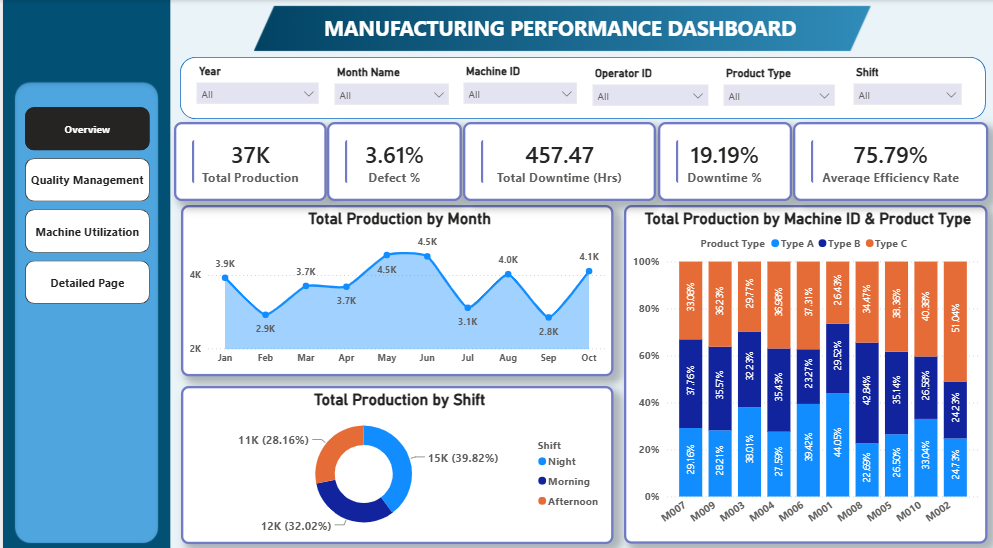

What the dashboard file says about the page in this screenshot:
{"tool":"powerbi","page":{"name":"Overview","canvas":[1280,720],"ordinal":0},"visuals":[{"type":"lineChart","title":"Total Production by Month","fields":{"Y":["Measure Table.Total Production"],"Category":["Calender table.Month Name"]},"box":[229.6,265,558.4,221.1],"z":0},{"type":"donutChart","title":"Total Production by Shift","fields":{"Category":["Shift.Shift"],"Y":["Measure Table.Total Production"]},"box":[229.6,497.5,558.4,204.1],"z":1000},{"type":"hundredPercentStackedColumnChart","title":"Total Production by Machine ID & Product Type","fields":{"Category":["Machine.Machine ID"],"Y":["Measure Table.Total Production"],"Series":["Manufacturing Data.Product Type"]},"box":[800.8,265,469.1,436.5],"z":2000},{"type":"cardVisual","fields":{"Data":["Measure Table.Total Production"]},"box":[221.1,157.7,197,102],"z":3000},{"type":"cardVisual","fields":{"Data":["Measure Table.Defect %"]},"box":[418.1,157.7,174.3,102],"z":4000},{"type":"cardVisual","fields":{"Data":["Measure Table.Downtime (Hrs)"]},"box":[593.9,157.7,249.4,102],"z":5000},{"type":"cardVisual","fields":{"Data":["Measure Table.Downtime %"]},"box":[844.7,157.3,172.9,102],"z":6000},{"type":"cardVisual","fields":{"Data":["Measure Table.Average Efficiency rate"]},"box":[1019.1,157.7,252.3,102],"z":7000},{"type":"pageNavigator","box":[28.3,137.5,161.6,255.1],"z":8000},{"type":"shape","box":[228.8,72.9,1039.7,80.1],"z":9000},{"type":"slicer","fields":{"Values":["Calender table.Year"]},"box":[240.3,78.7,177.3,65.8],"z":10000},{"type":"slicer","fields":{"Values":["Calender table.Month Name"]},"box":[417.6,80.1,167.3,65.8],"z":11000},{"type":"slicer","fields":{"Values":["Manufacturing Data.Machine ID"]},"box":[584.9,78.7,165.9,65.8],"z":12000},{"type":"slicer","fields":{"Values":["Manufacturing Data.Operator ID"]},"box":[750.8,81.5,168.8,65.8],"z":13000},{"type":"slicer","fields":{"Values":["Manufacturing Data.Product Type"]},"box":[919.6,81.5,163,55.8],"z":14000},{"type":"slicer","fields":{"Values":["Manufacturing Data.Shift"]},"box":[1088.4,80.1,158.7,65.8],"z":15000},{"type":"textbox","box":[391.2,12.9,655.8,48.9],"z":16000}]}

Visuals, with their boxes in screenshot pixels (x1, y1, x2, y2), scaled from the page's 1280x720 canvas onto the 993x548 screenshot:
"Total Production by Month" lineChart: 178:202:611:370
"Total Production by Shift" donutChart: 178:379:611:534
"Total Production by Machine ID & Product Type" hundredPercentStackedColumnChart: 621:202:985:534
cardVisual - Measure Table.Total Production: 172:120:324:198
cardVisual - Measure Table.Defect %: 324:120:460:198
cardVisual - Measure Table.Downtime (Hrs): 461:120:654:198
cardVisual - Measure Table.Downtime %: 655:120:789:197
cardVisual - Measure Table.Average Efficiency rate: 791:120:986:198
pageNavigator: 22:105:147:299
shape: 177:55:984:116
slicer - Calender table.Year: 186:60:324:110
slicer - Calender table.Month Name: 324:61:454:111
slicer - Manufacturing Data.Machine ID: 454:60:582:110
slicer - Manufacturing Data.Operator ID: 582:62:713:112
slicer - Manufacturing Data.Product Type: 713:62:840:105
slicer - Manufacturing Data.Shift: 844:61:967:111
textbox: 303:10:812:47
